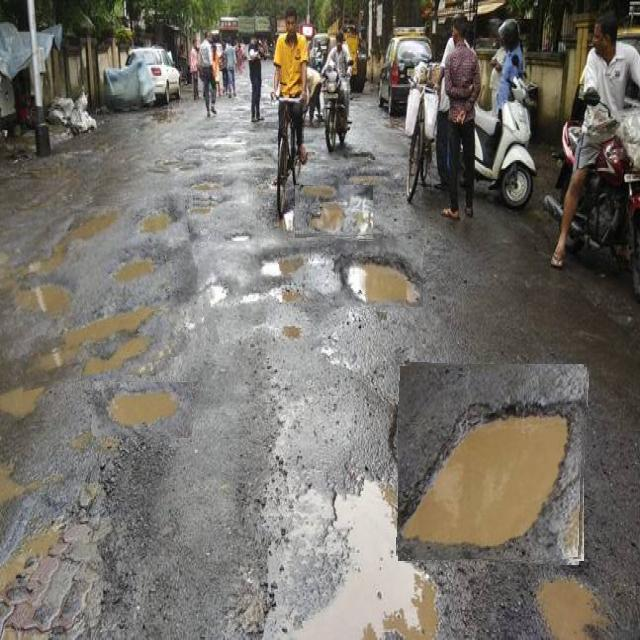Pothole: (0, 196, 211, 381), (398, 364, 587, 563), (336, 238, 423, 307), (92, 382, 192, 437), (295, 185, 373, 240), (247, 248, 311, 280)
